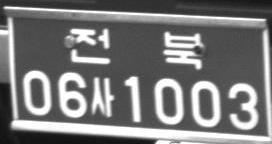0: (153, 77, 185, 124), (190, 79, 221, 127), (22, 69, 51, 116)
1: (121, 75, 147, 122)
3: (227, 81, 260, 130)
6: (56, 71, 88, 117)
사: (90, 76, 114, 117)
전북_D: (70, 27, 203, 70)
